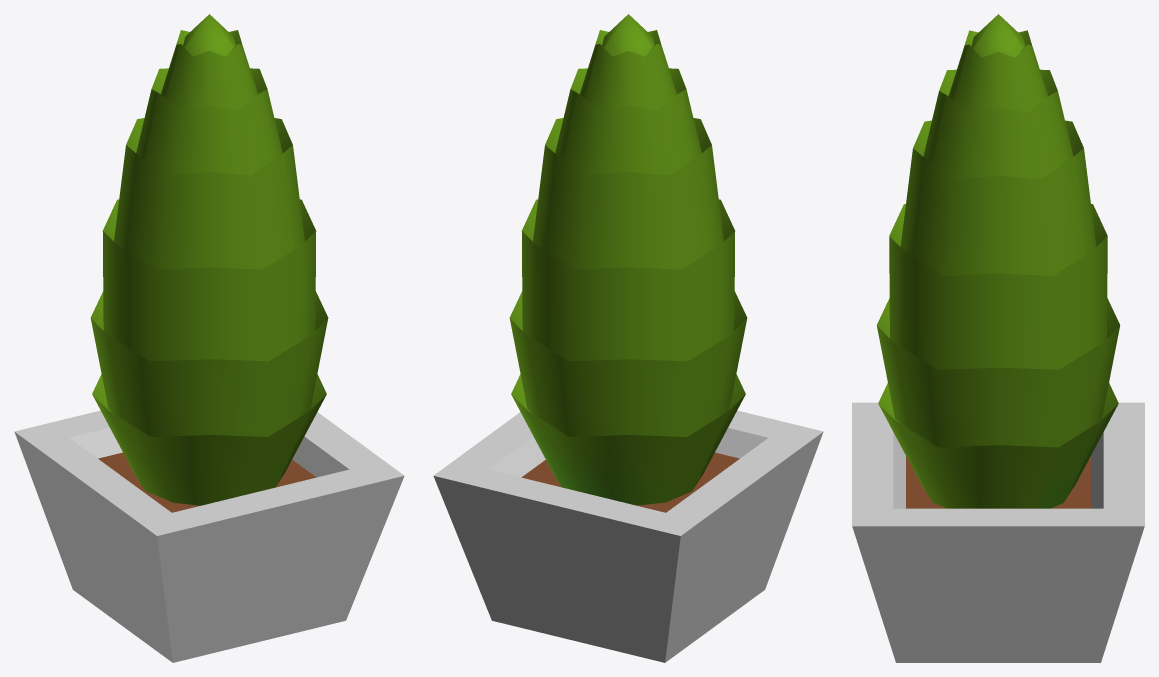
The model's file is plant2.fbx.
3 views of the same model, side by side, from view 1: azimuth 30°, elevation 25°; view 2: azimuth 150°, elevation 25°; view 3: azimuth 270°, elevation 25° (orthographic). The views are drawn at different scales.
Parts seen in each view (by area): view 1: plant2; view 2: plant2; view 3: plant2.
Boxes of the visible parts, left/top/right/bottom form: plant2: left=14, top=14, right=404, bottom=662; plant2: left=433, top=14, right=823, bottom=662; plant2: left=852, top=14, right=1144, bottom=662.
Bounding box in the file's own units: 252 × 576 × 252.
